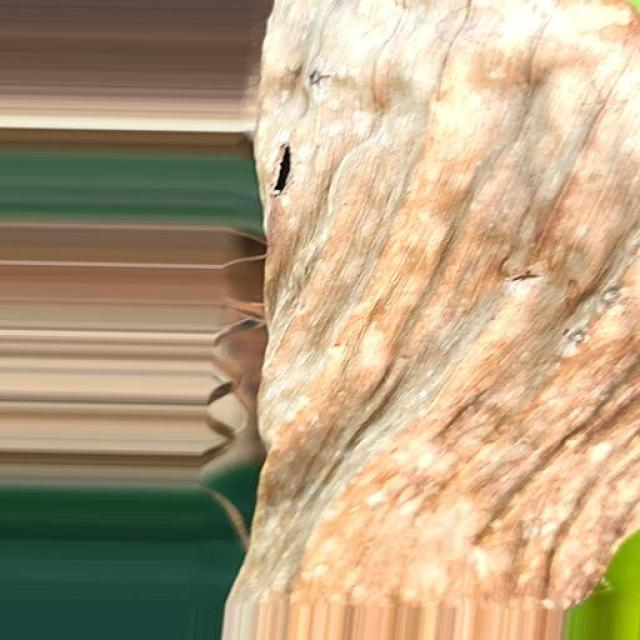Bract_mosaic_virus: (212, 4, 640, 640)
